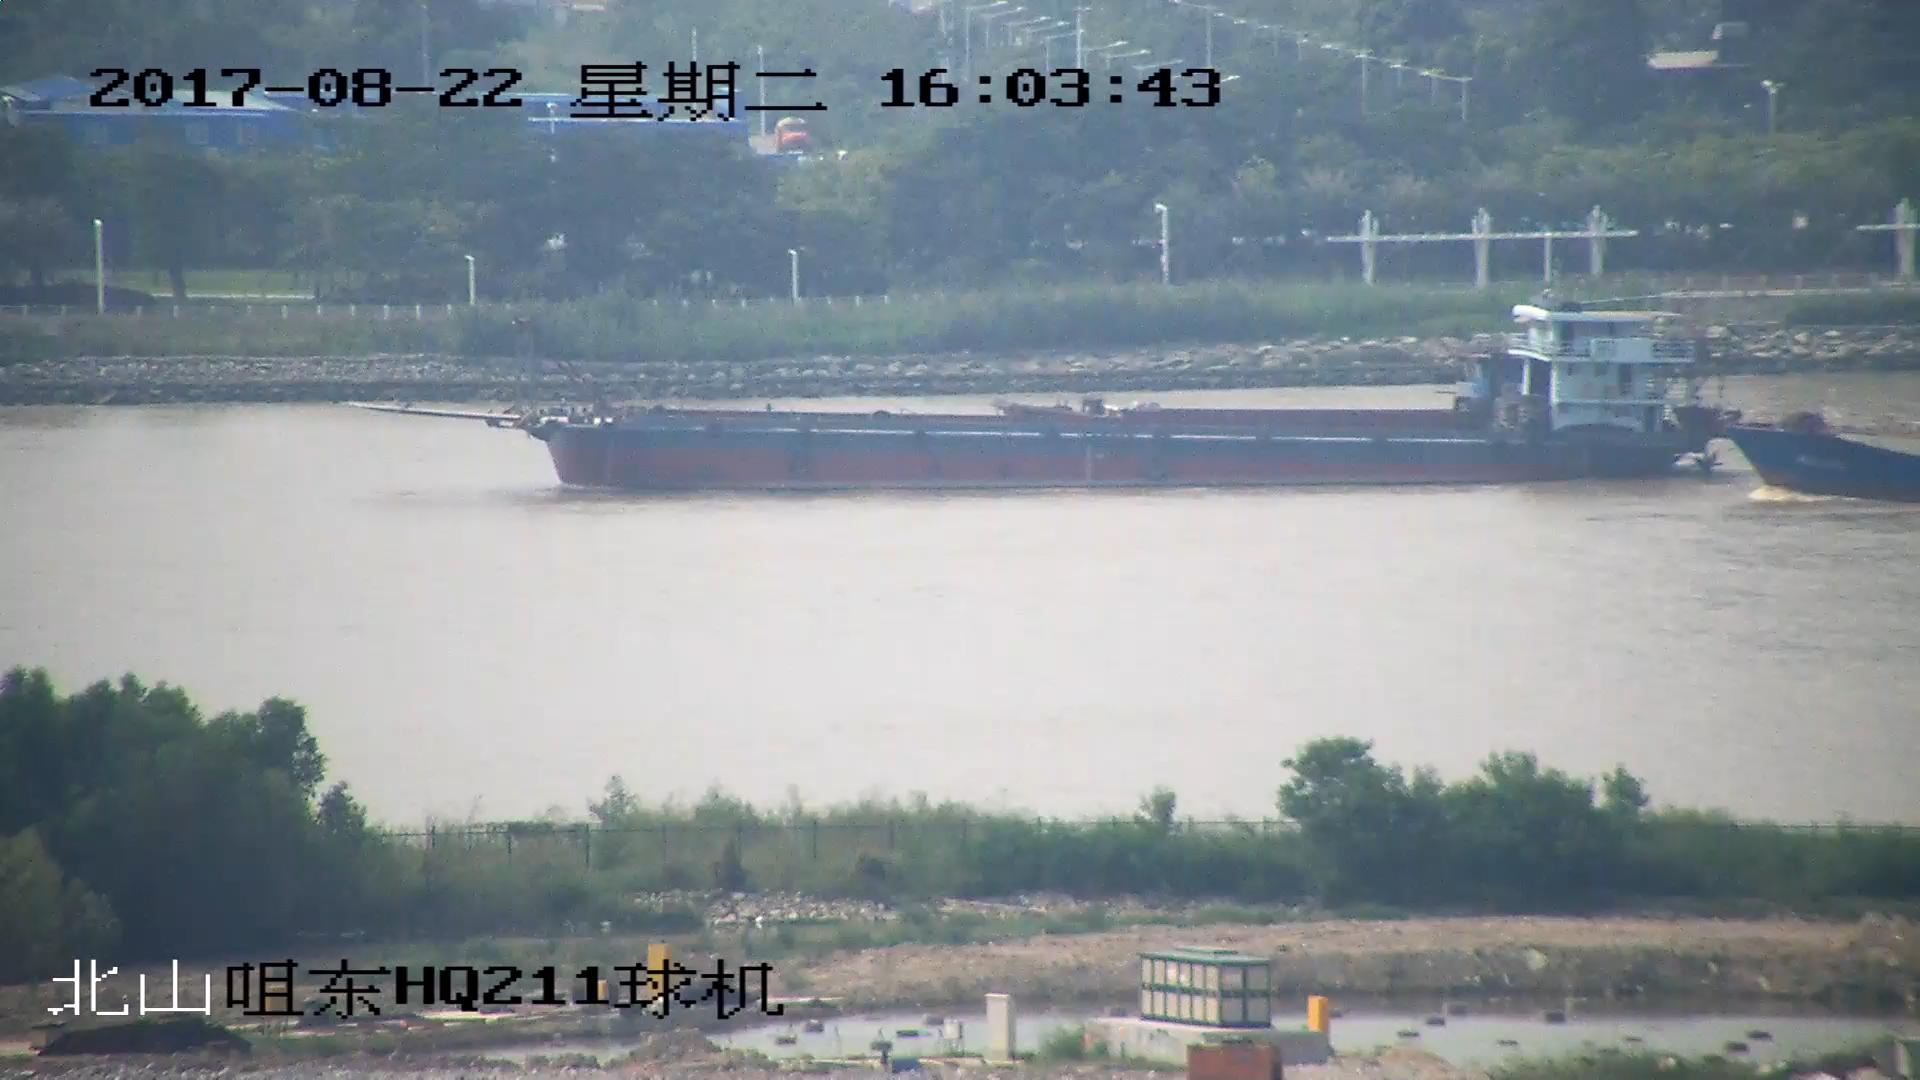bulk cargo carrier: (351, 307, 1750, 490)
fishing boat: (1718, 414, 1920, 503)
